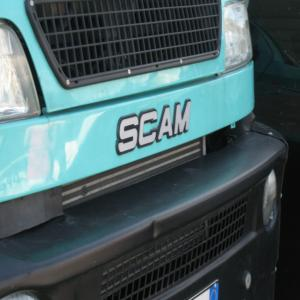Vehicle-registration-plate: (190, 279, 221, 300)
